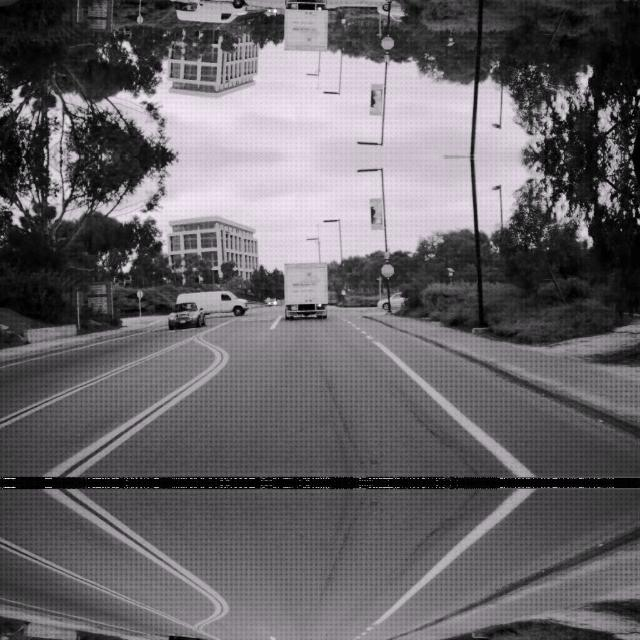stop: (381, 263, 394, 277), (381, 35, 394, 49)
